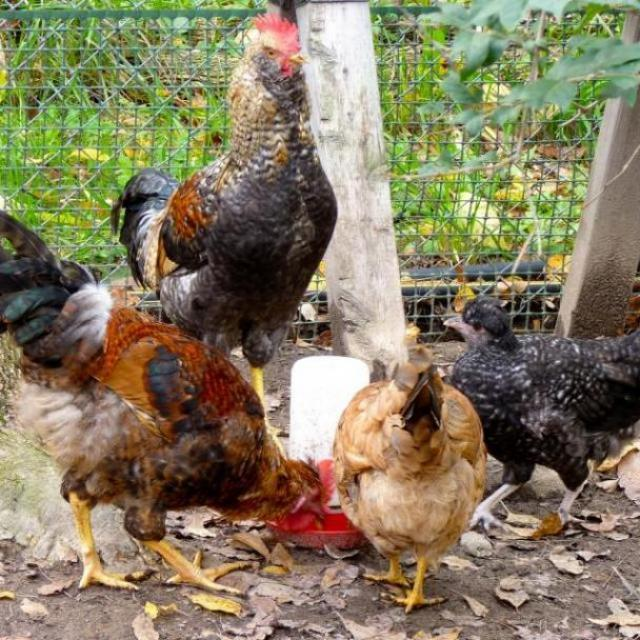Chicken: (0, 211, 335, 596), (121, 23, 333, 417), (443, 295, 640, 531), (330, 343, 485, 610)
